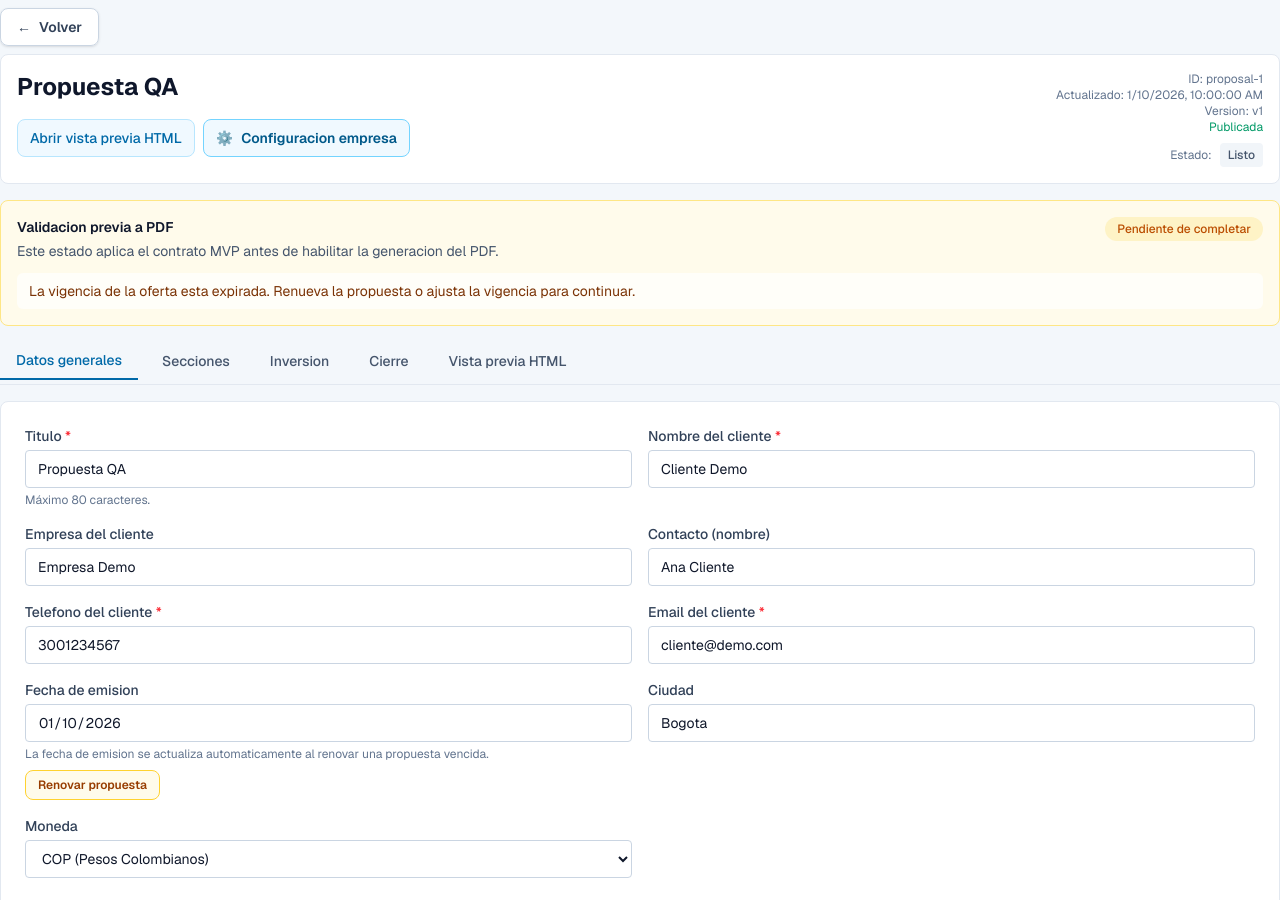
it: ProposalEditor › toggles export/import panel
Check: the heading "Propuesta QA" is shown, box [17,71,178,102]
// Sections tab has export/import toggle
What coordinates should you click on to do the following:
click the button "Secciones"
I would click on:
 (196, 361)
Its box is [146,342,246,380].
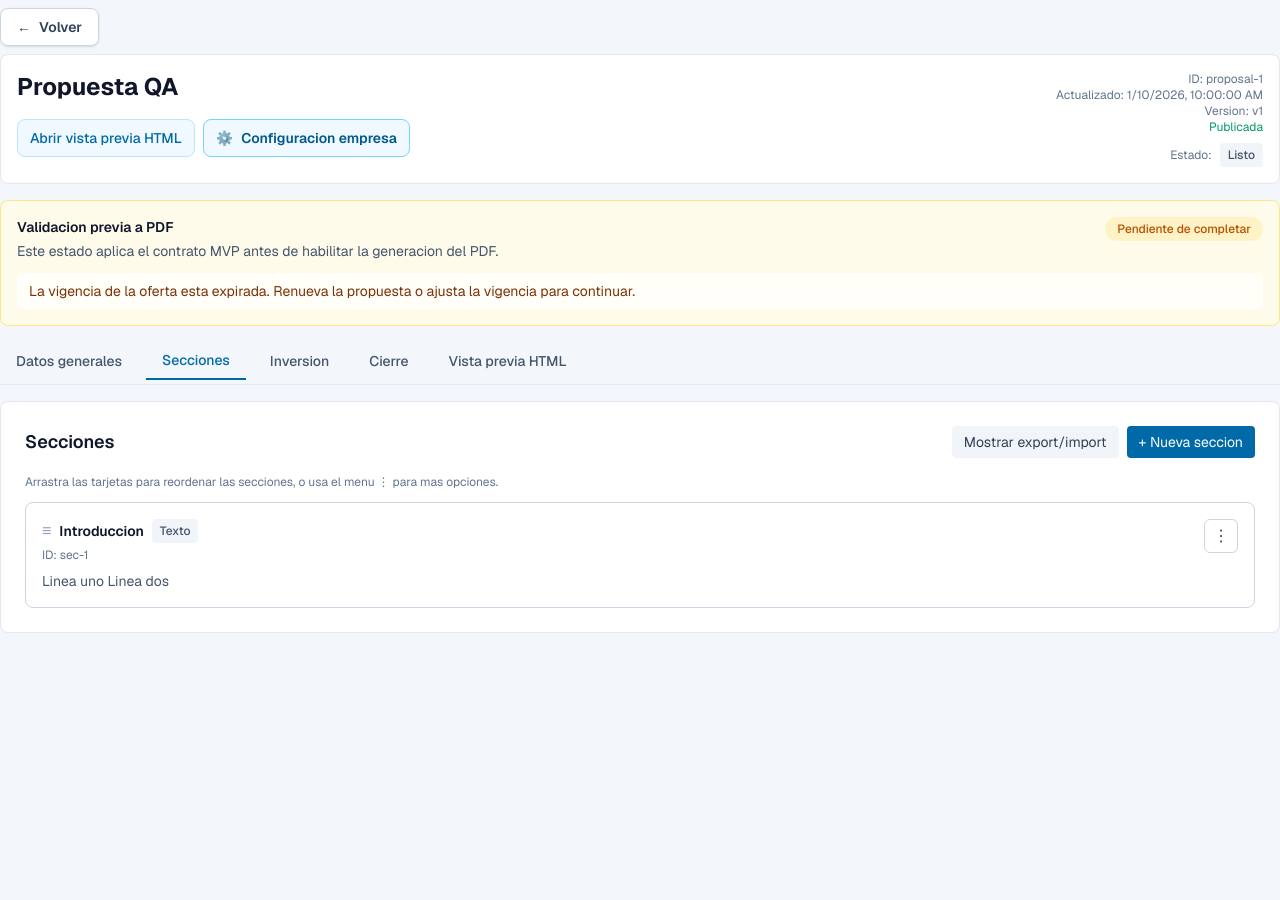
What coordinates should you click on to do the following:
click the button "Mostrar export/import"
I would click on:
 (1035, 442)
Its box is [952,426,1119,458].
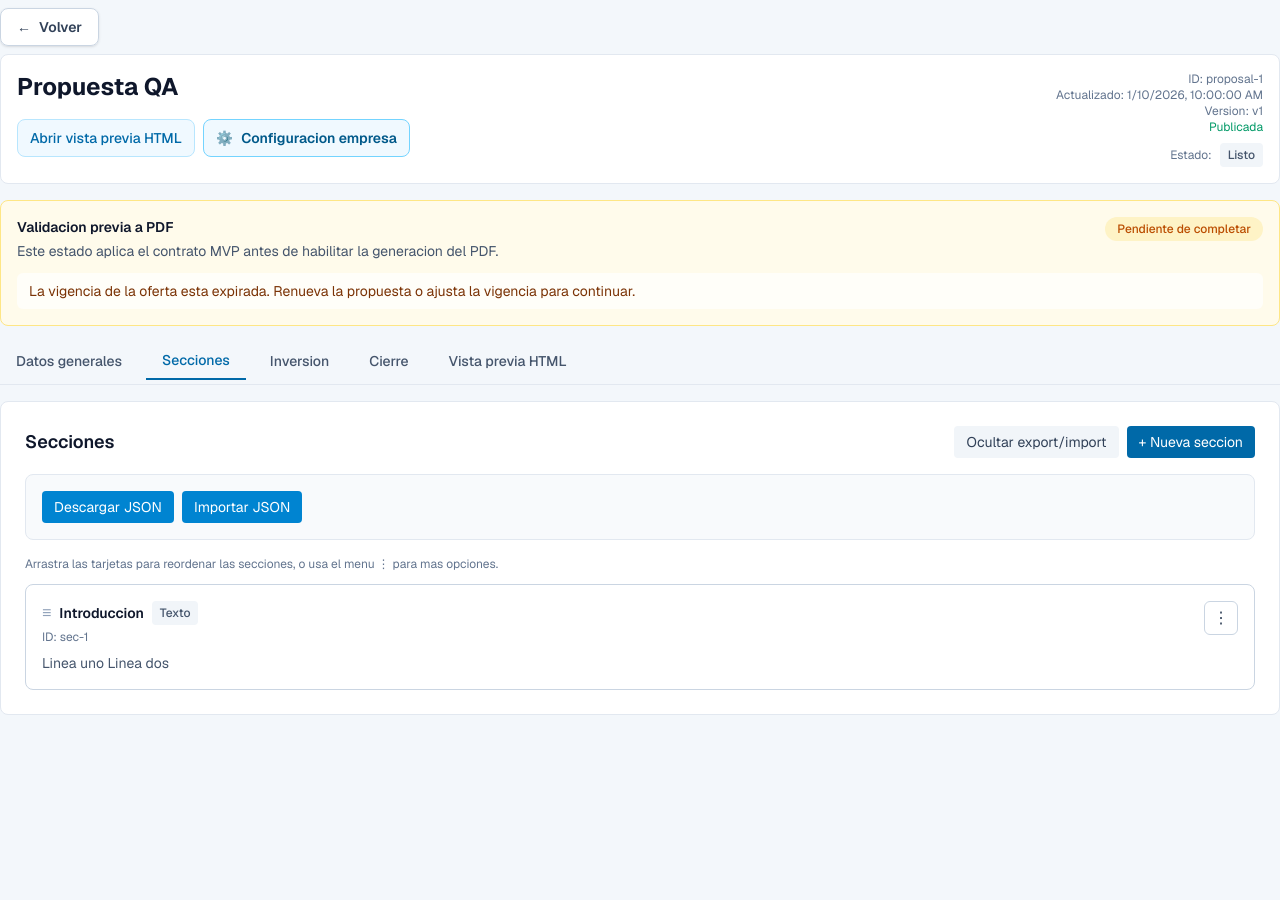
Check: the button "Descargar JSON" is shown, box [42,491,174,523]
